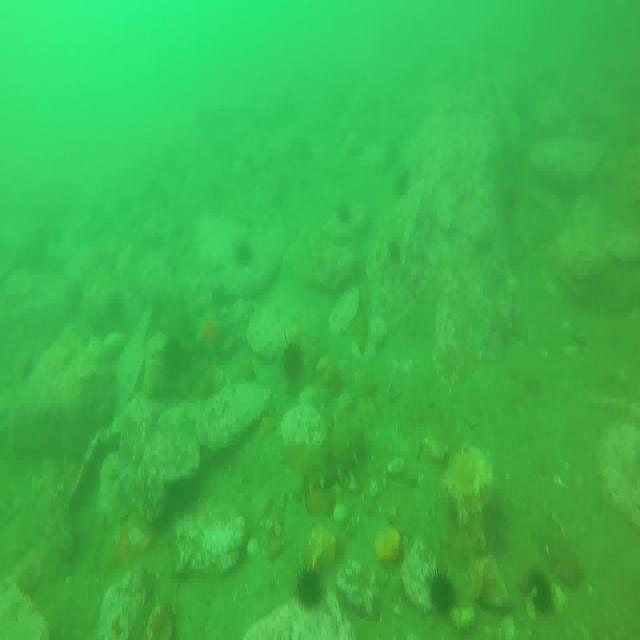echinus: (429, 562, 459, 617), (294, 563, 325, 611), (164, 334, 190, 386), (528, 572, 554, 620), (282, 338, 304, 381), (230, 239, 254, 271)
holothurian: (299, 429, 365, 492)
starfish: (192, 316, 234, 359)
